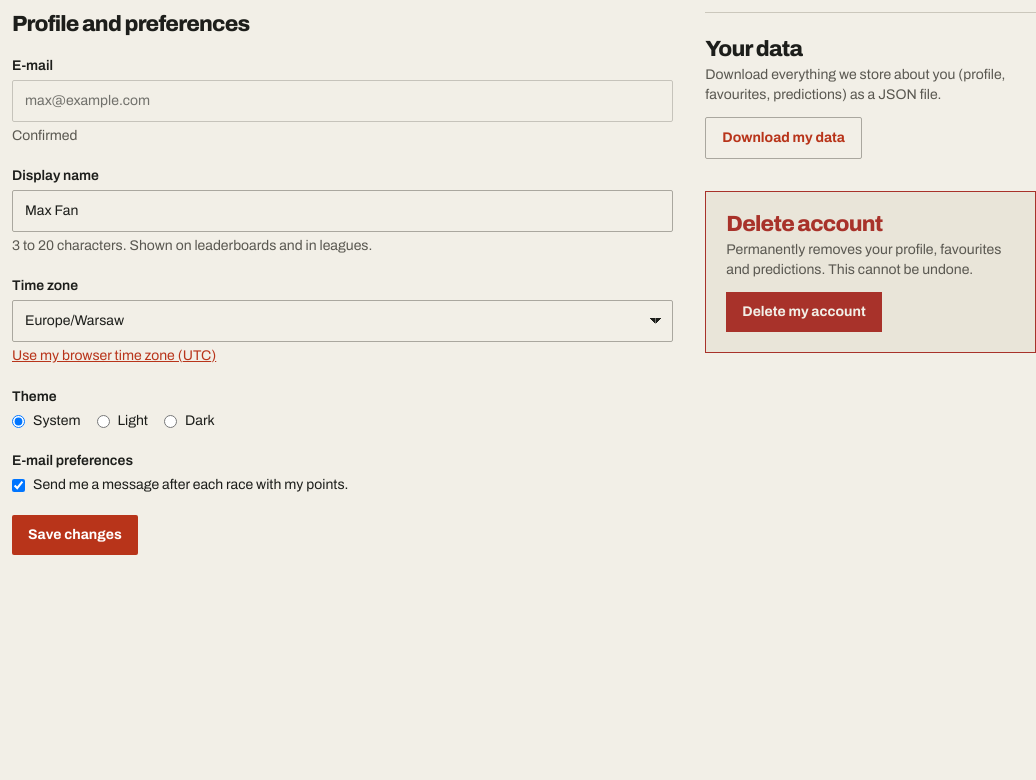
settings › shows API validation errors on the field
The width and height of the screenshot is (1036, 780).
Click the button "Save changes". click: (75, 535)
box: [12,515,138,555]
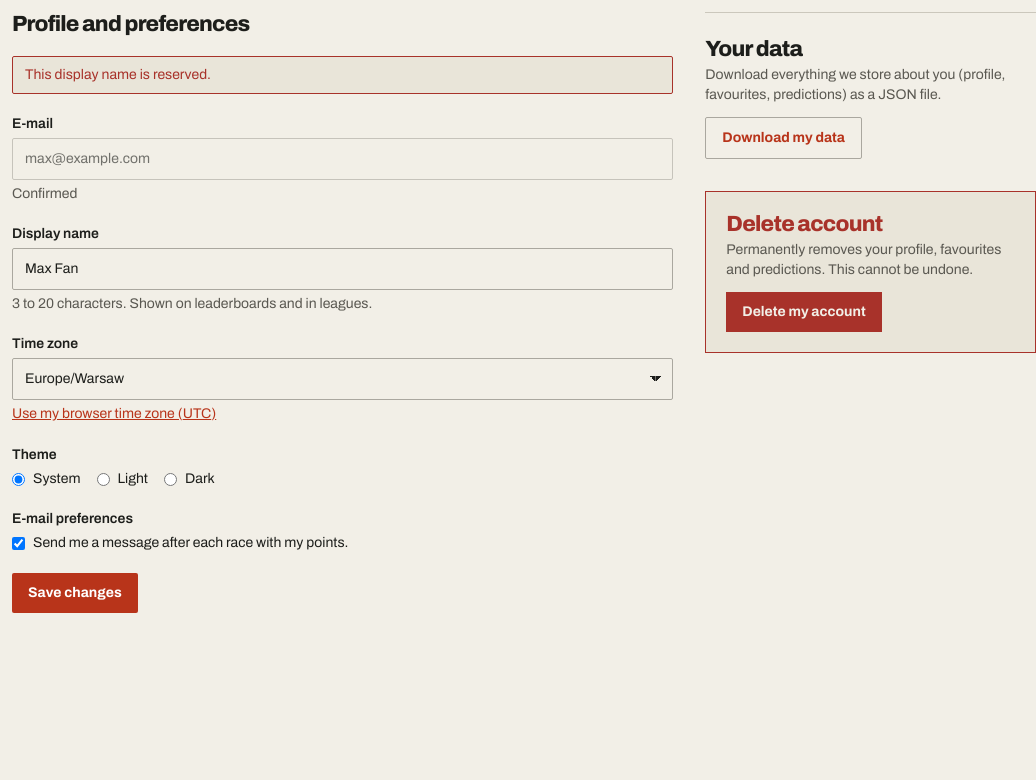
Check: the message reads "This display name is reserved.", box [25,67,211,82]
